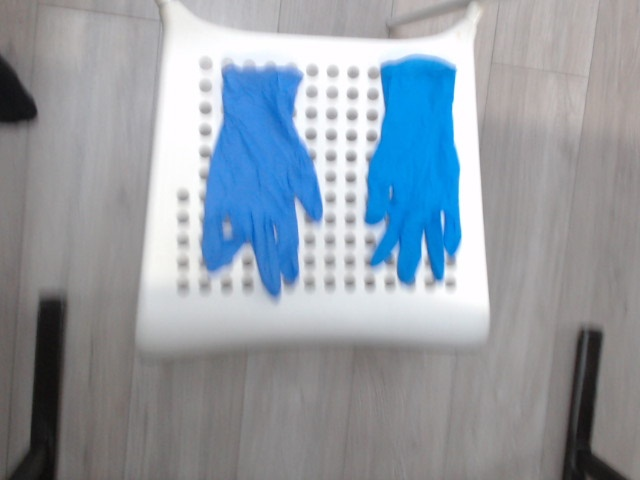medical_glove: (204, 68, 324, 296), (369, 56, 461, 282)
